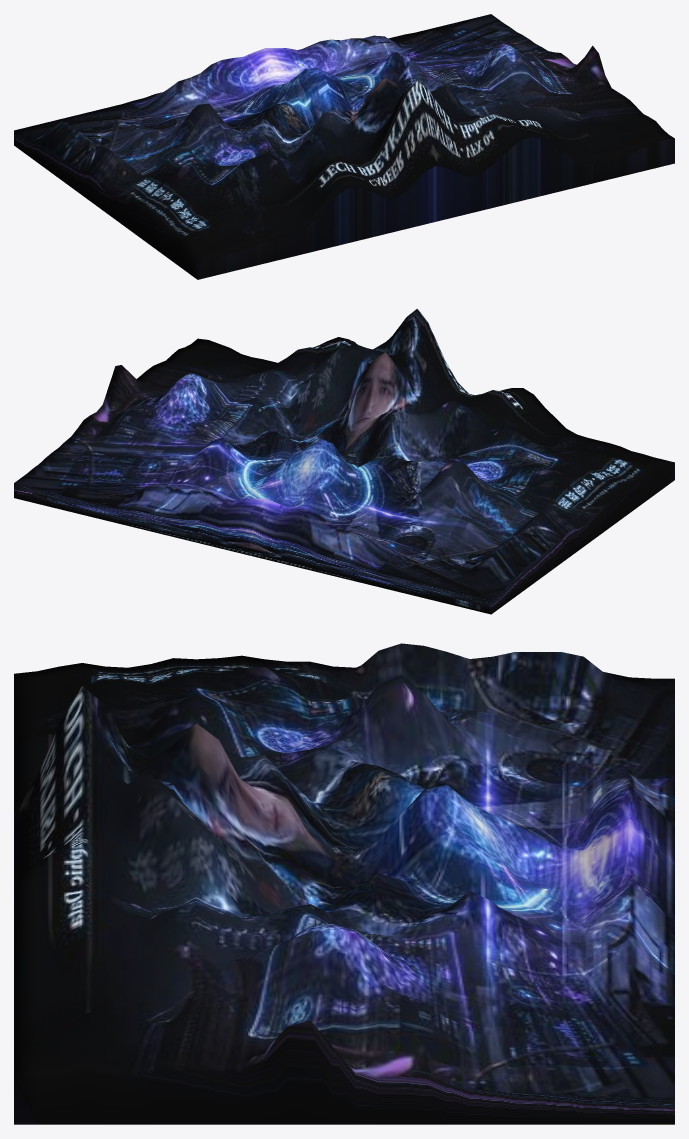
Rendered from CAREER_13_VFX_04_Breakthrough.glb.
3 renders of one model, top to bottom at view 1: azimuth 30°, elevation 25°; view 2: azimuth 150°, elevation 25°; view 3: azimuth 270°, elevation 25°, orthographic. The views are drawn at different scales.
Parts seen in each view (by area): view 1: CAREER_13_VFX_04_Breakthrough; view 2: CAREER_13_VFX_04_Breakthrough; view 3: CAREER_13_VFX_04_Breakthrough.
Part boxes in pixels (x1,y1,x2,y2): CAREER_13_VFX_04_Breakthrough: (14,14,674,279); CAREER_13_VFX_04_Breakthrough: (14,308,674,614); CAREER_13_VFX_04_Breakthrough: (14,643,674,1124).
Size of the model in its own units: 2 by 0.51 by 1.33.
Materials: 1 (1 with a texture image).
